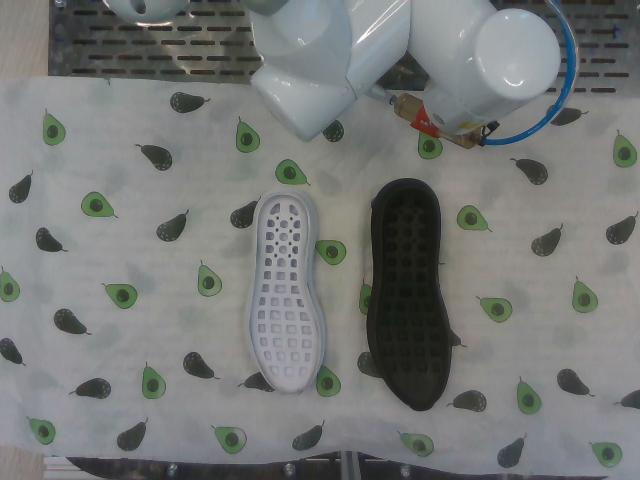shoes: (375, 187, 449, 411), (249, 194, 320, 397)
